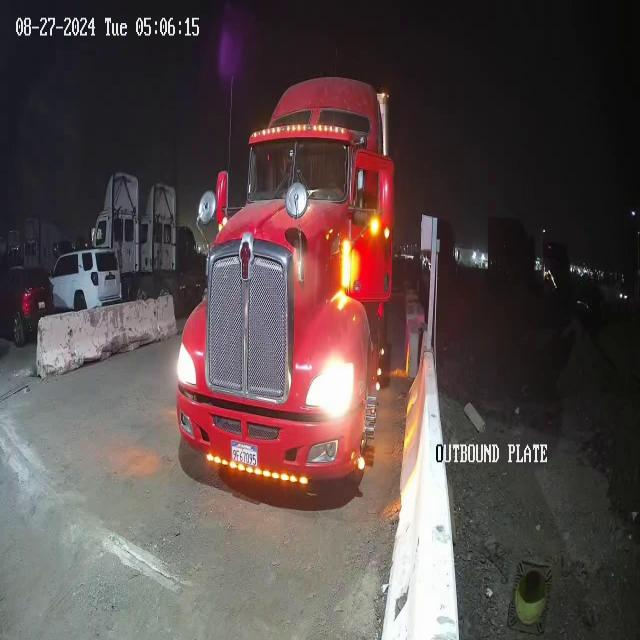TRUCK_OUT: (176, 75, 395, 498)
